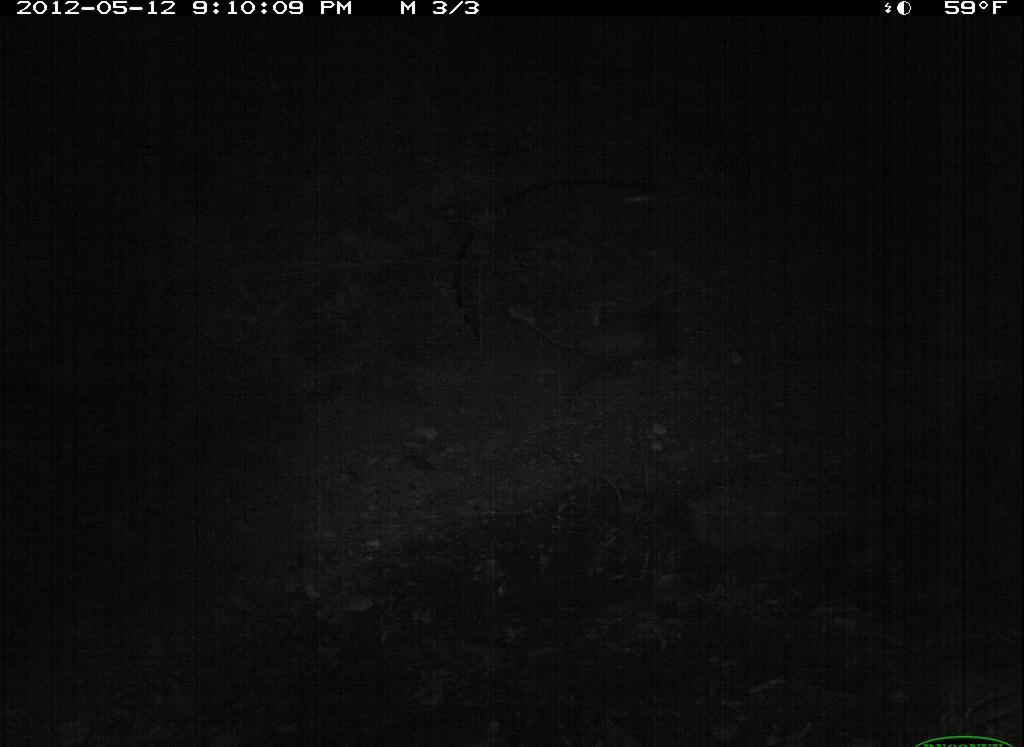opossum: (514, 297, 701, 414)
